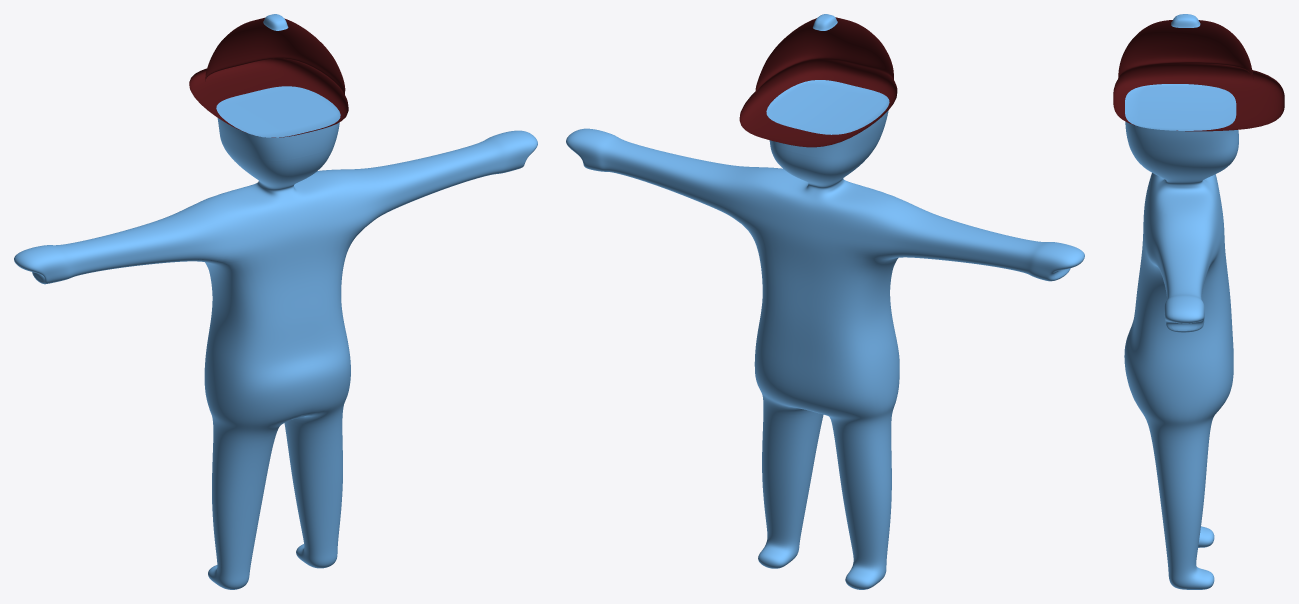
The model's file is player.fbx.
3 views of the same model, side by side, from view 1: azimuth 30°, elevation 25°; view 2: azimuth 150°, elevation 25°; view 3: azimuth 270°, elevation 25° (orthographic).
Visible parts, largest first — view 1: Subdivision_Surface_1; view 2: Subdivision_Surface_1; view 3: Subdivision_Surface_1.
Boxes of the visible parts, bbox=[...] form: Subdivision_Surface_1: bbox=[14, 14, 537, 589]; Subdivision_Surface_1: bbox=[566, 14, 1084, 589]; Subdivision_Surface_1: bbox=[1113, 14, 1284, 589].
Bounding box in the file's own units: 338 × 350 × 98.78.
